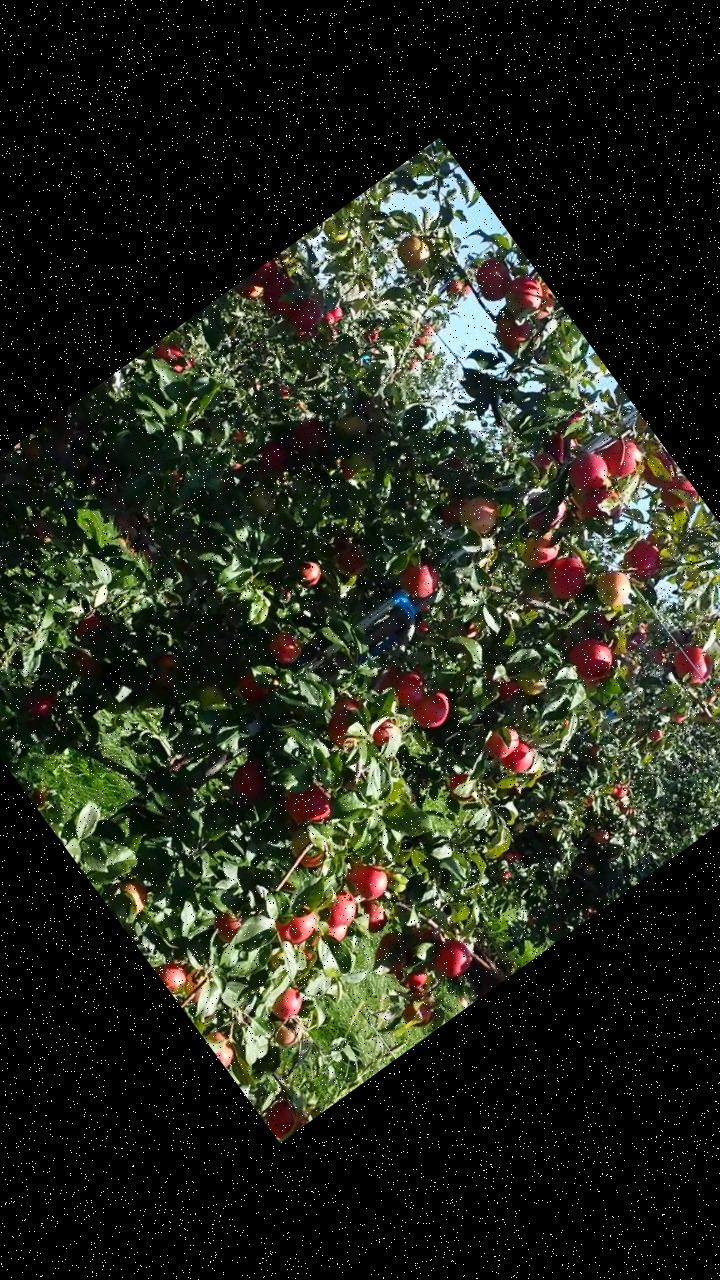Apple: (277, 774, 341, 838), (536, 547, 598, 609), (560, 629, 622, 690), (390, 548, 450, 608), (574, 478, 635, 536), (557, 444, 616, 503), (405, 682, 463, 739), (664, 636, 719, 696), (594, 428, 650, 484), (511, 520, 567, 576), (221, 751, 277, 807), (314, 880, 369, 936), (618, 532, 672, 588), (268, 898, 324, 952), (253, 270, 308, 324), (468, 252, 522, 306), (586, 562, 640, 616), (487, 304, 540, 358), (454, 488, 507, 542), (342, 854, 395, 907), (424, 932, 476, 985), (258, 1091, 310, 1143), (500, 268, 550, 320), (395, 988, 446, 1038), (634, 446, 684, 496), (282, 825, 330, 875), (385, 662, 434, 710), (476, 718, 526, 765), (388, 229, 436, 277), (286, 412, 335, 458), (152, 334, 198, 382), (266, 1007, 313, 1053), (527, 496, 576, 540), (325, 532, 370, 579), (264, 981, 311, 1026), (263, 624, 308, 670), (319, 708, 364, 754), (541, 423, 586, 468), (251, 434, 295, 480), (369, 930, 413, 976), (284, 292, 329, 336), (144, 648, 189, 692), (350, 892, 393, 938), (154, 952, 197, 998), (518, 281, 562, 325), (497, 738, 542, 781), (204, 1026, 244, 1072), (229, 666, 272, 708), (658, 475, 700, 517), (331, 404, 373, 446), (206, 905, 248, 947), (367, 658, 410, 698), (116, 873, 156, 915), (20, 686, 61, 726), (443, 766, 483, 806), (391, 957, 432, 996), (175, 966, 214, 1005), (616, 619, 656, 657), (243, 480, 281, 520), (437, 491, 476, 528), (366, 712, 402, 748), (70, 644, 106, 680), (487, 669, 522, 704), (249, 258, 285, 292), (232, 274, 267, 308), (72, 606, 106, 638), (516, 668, 550, 699), (297, 556, 328, 588), (412, 919, 444, 950), (322, 914, 353, 946), (329, 692, 362, 722), (334, 457, 360, 482), (530, 448, 554, 473), (565, 408, 586, 427)
